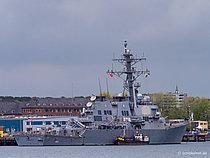MIL_Ship: (11, 38, 190, 146)
